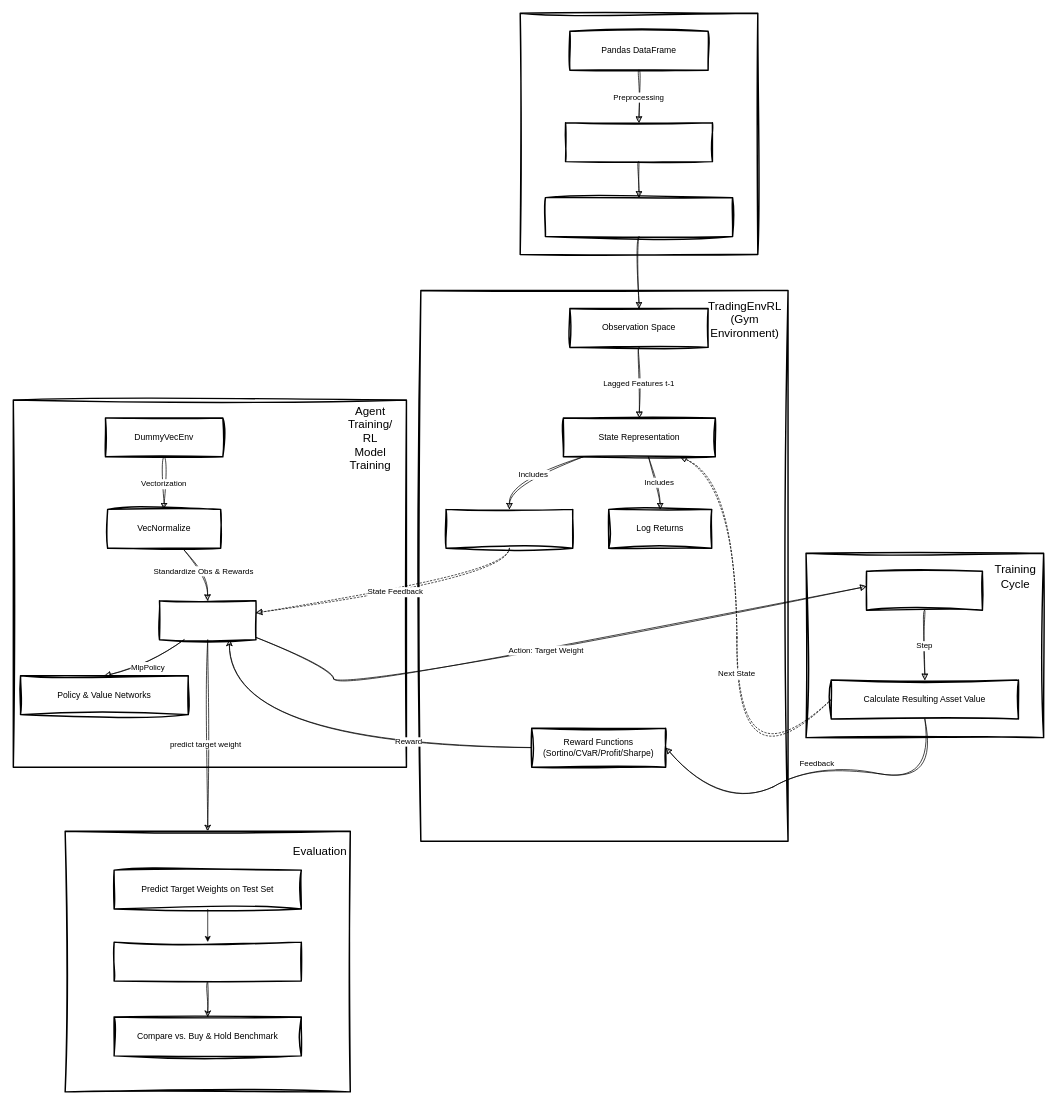
Image size: 1056x1104. Some labels were removed from this diagram. Here are the shapes that lost their labels. From the top down, the centre of each, then its label:
(x=638, y=142): Feature Engineering
(x=638, y=217): Prices & Technical Indicators
(x=509, y=528): Portfolio Weight
(x=924, y=590): Execute Trade
(x=207, y=620): Agent
(x=207, y=961): VectorBT Simulation with Commissions
